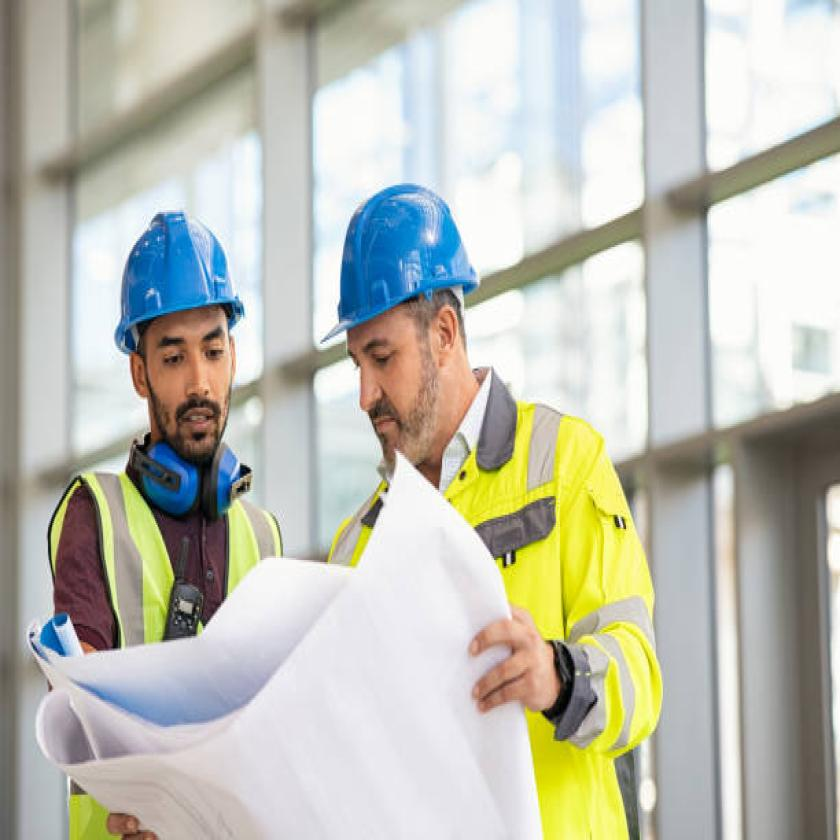Con_casco: (330, 180, 498, 490), (105, 195, 275, 490)
